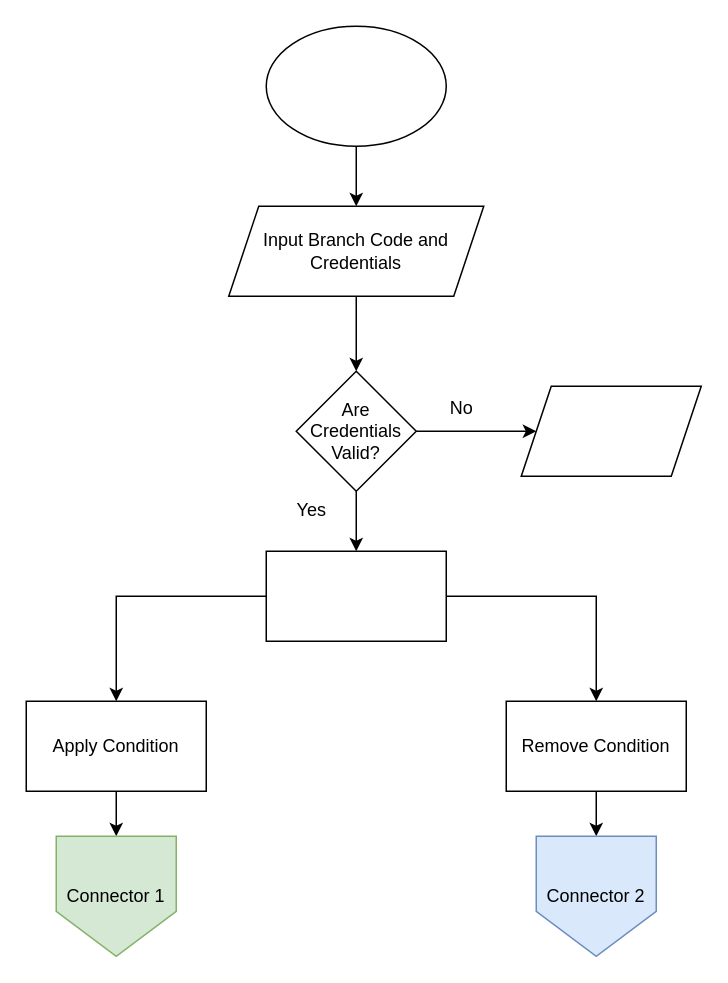
Some shapes in this 728 by 983 pixel diagram are drawn without their labels. The shapes that lost their labels are listed below. From the top down, each one's centre as x and y in pixels, then its label:
[355,85]: Start
[610,430]: Error: Invalid Credentials
[355,595]: Account Condition Apply/Remove
